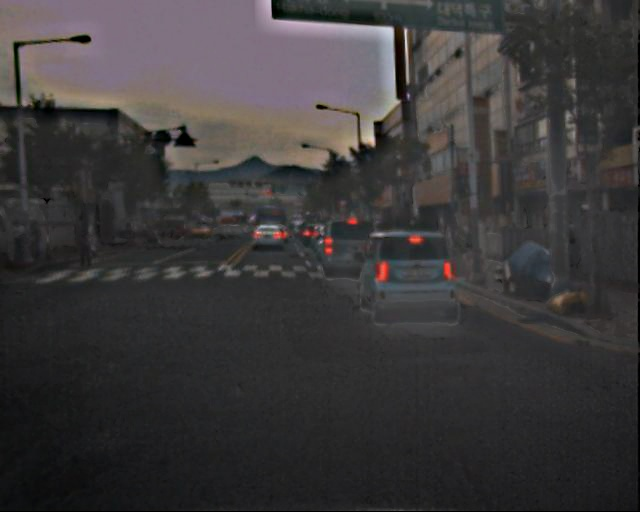person: (28, 217, 56, 258), (12, 218, 39, 255), (80, 225, 99, 268)
